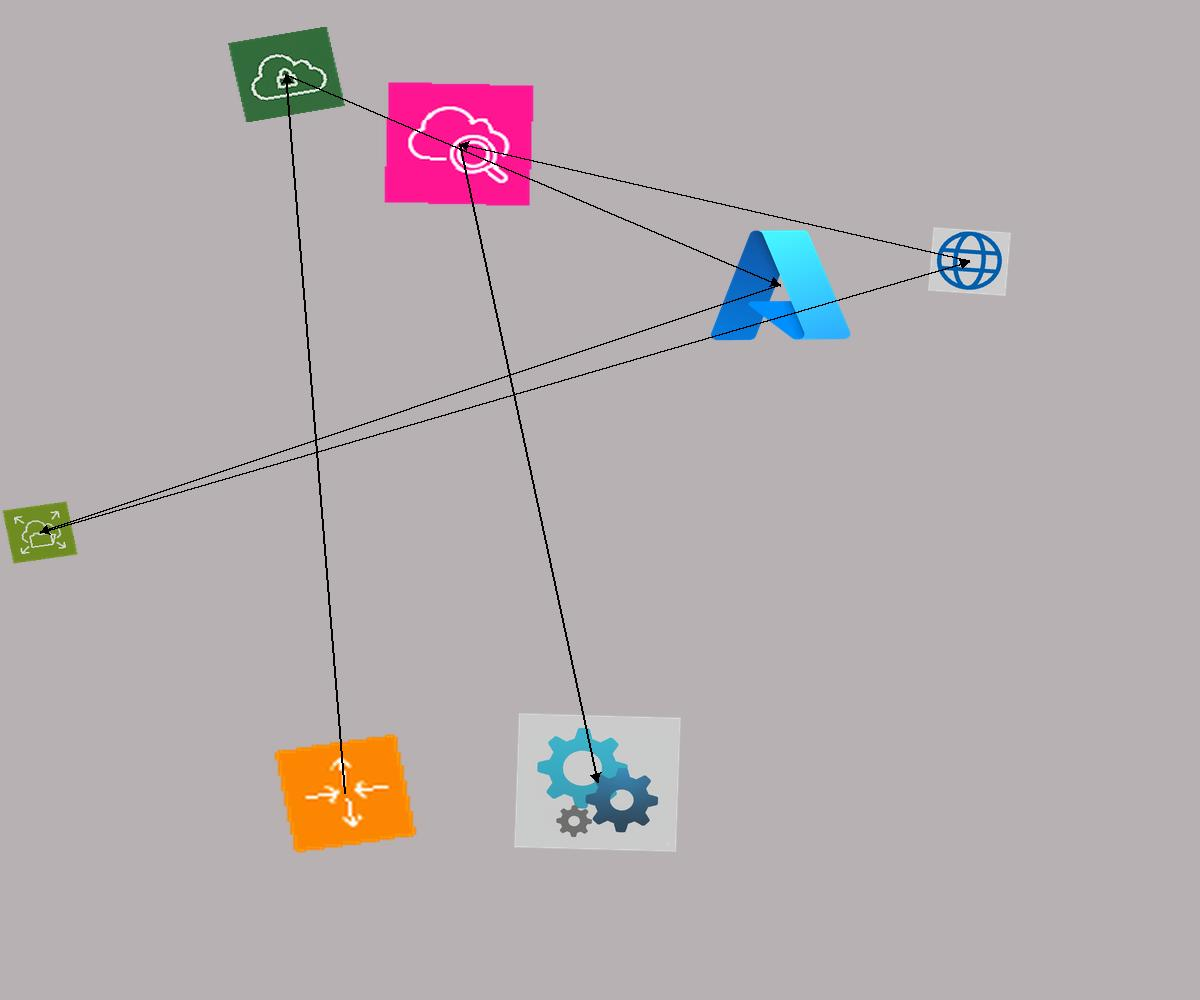AWS-CloudWatch: (383, 81, 535, 207)
AWS-EFS: (2, 501, 78, 564)
AWS-Private_vpc: (228, 26, 345, 123)
AWS-Scaling-group: (272, 732, 419, 855)
Azure_api: (514, 713, 681, 852)
Azure_http: (928, 227, 1011, 296)
Azure_services: (703, 221, 857, 349)
